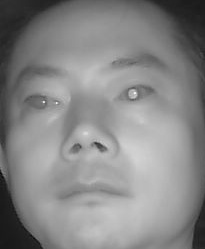eye: (112, 81, 157, 107), (24, 91, 62, 116)
mouth: (53, 170, 131, 211)
